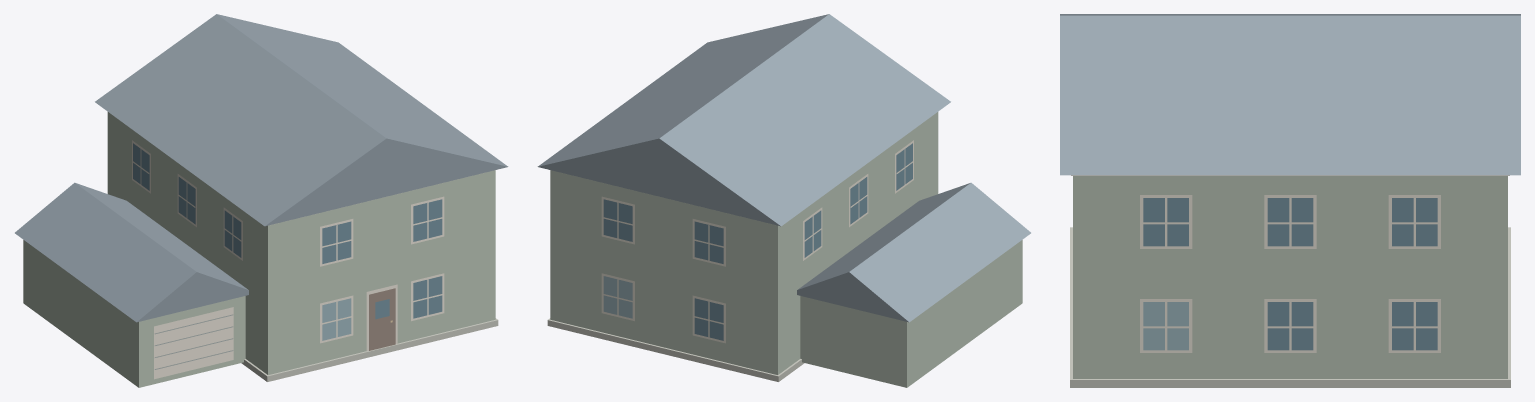
Rendered from house-garage-left.glb.
3 renders of one model, left to right at view 1: azimuth 30°, elevation 25°; view 2: azimuth 150°, elevation 25°; view 3: azimuth 270°, elevation 25°, orthographic. The views are drawn at different scales.
Visible parts, largest first — view 1: house-garage-left; view 2: house-garage-left; view 3: house-garage-left.
Part boxes in pixels (bbox=[...]): house-garage-left: bbox=[15, 14, 508, 387]; house-garage-left: bbox=[537, 14, 1030, 387]; house-garage-left: bbox=[1060, 14, 1520, 387].
Bounding box in the file's own units: 13.77 × 8.25 × 11.65.
